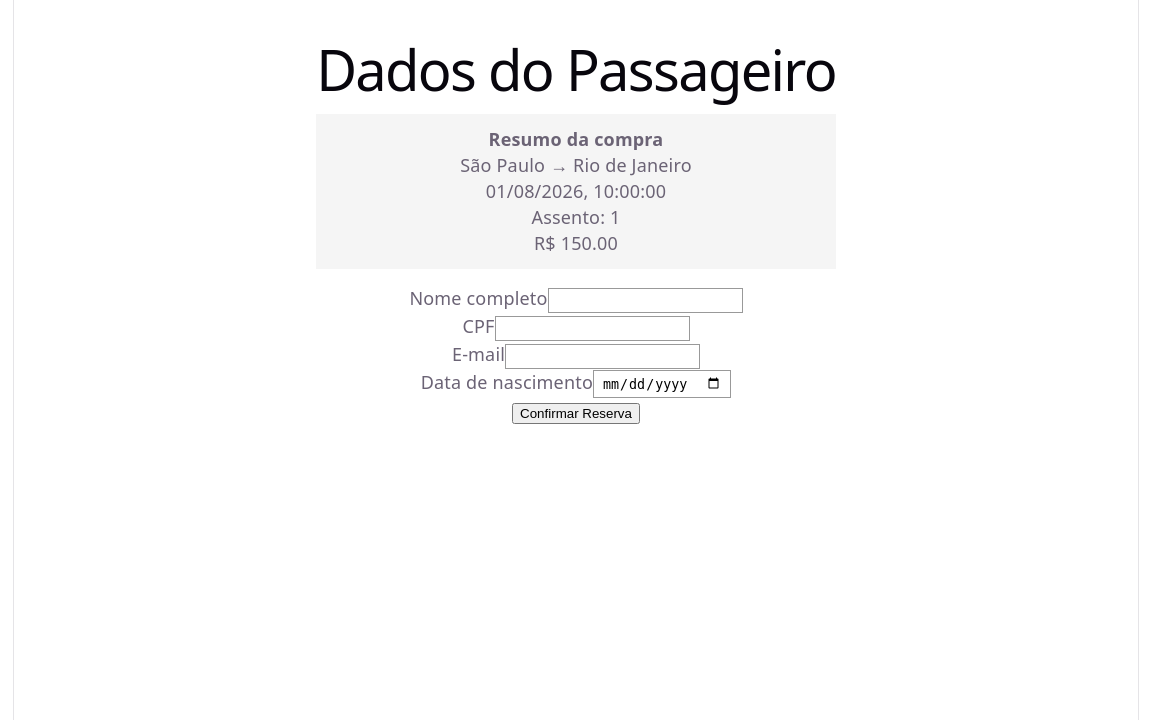
Test case: ConfirmacaoReserva › deve exibir erros de validação ao submeter formulário vazio
Click the button "Confirmar Reserva": (576, 413) 512,403 -> 640,424
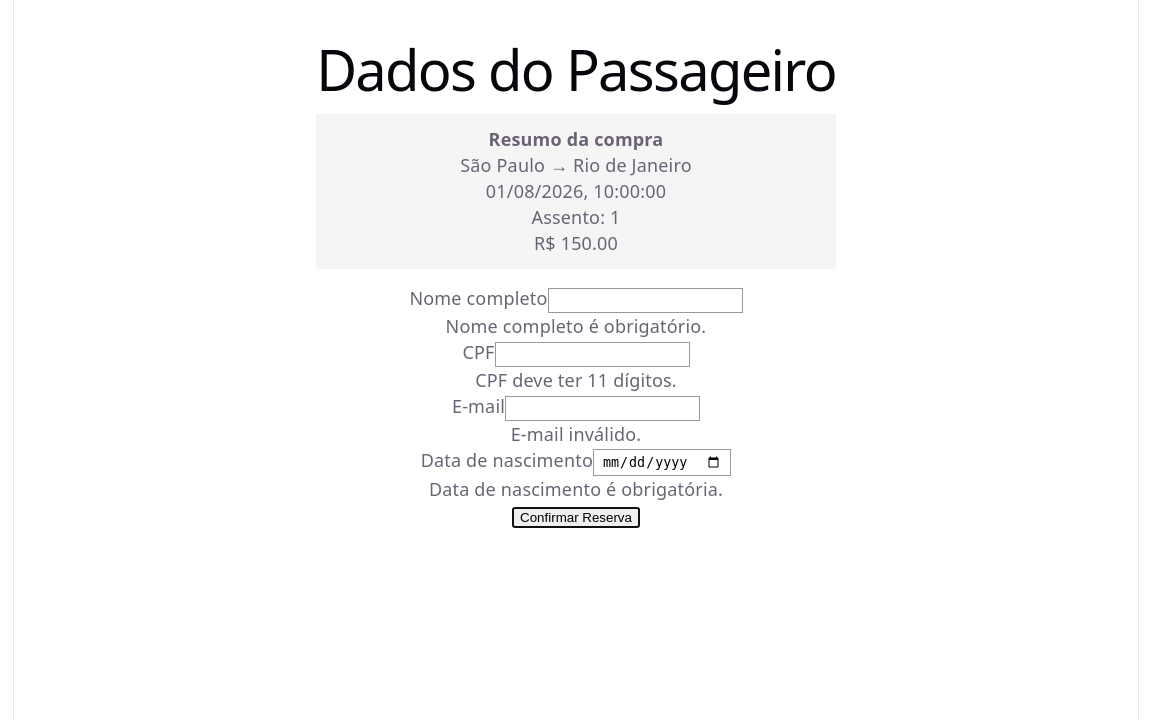
Check: the text "Nome completo é obrigatório." is shown, box 446,314 -> 706,338
Check: the text "CPF deve ter 11 dígitos." is shown, box 475,368 -> 677,392
